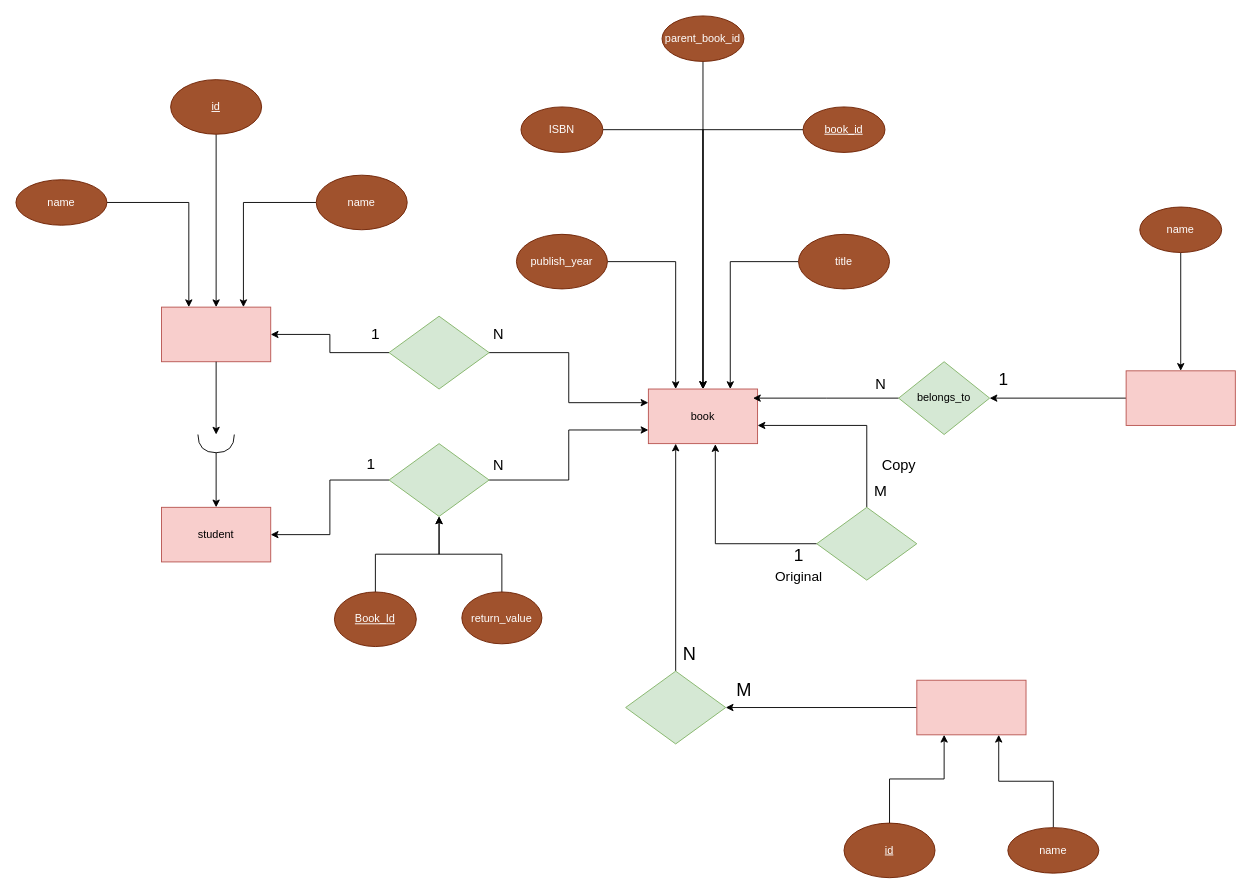
Image size: 1251x894. Some labels were removed from this diagram. The shapes that lost their labels are listed below. From the top down, each one's box as (x1, y1, x2, y2) in pixels, then its label:
(161, 306, 271, 362): user
(388, 315, 489, 389): reads_at_place
(1125, 370, 1235, 425): categories
(388, 443, 489, 516): borrow
(816, 506, 917, 580): copy_of
(625, 670, 726, 744): written_by
(916, 679, 1026, 735): author
